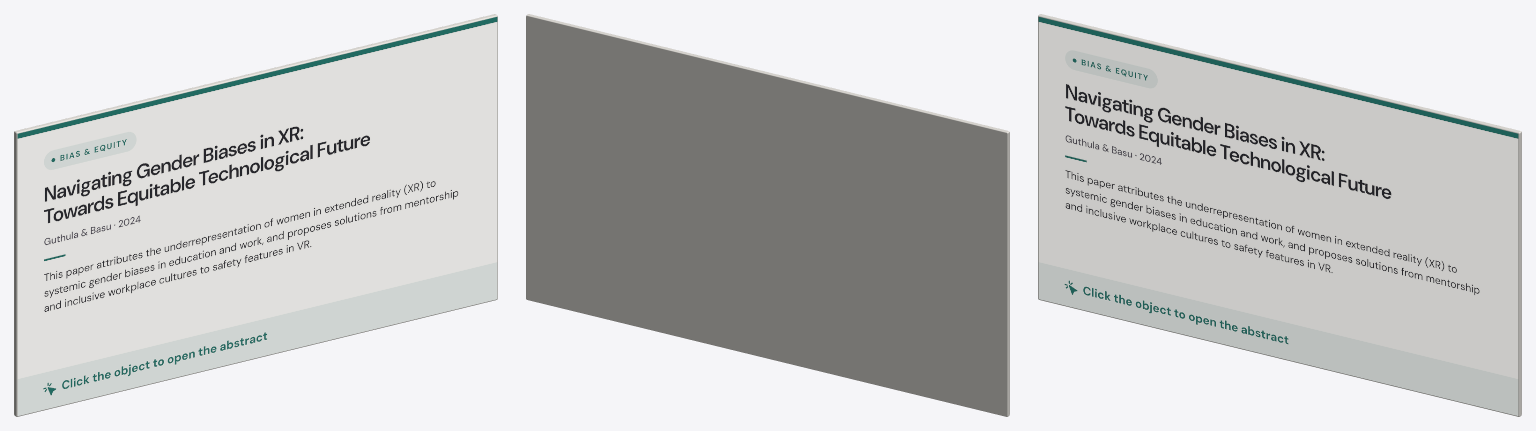
Rendered from plaque-guthula-2024.glb.
3 renders of one model, left to right at view 1: azimuth 30°, elevation 25°; view 2: azimuth 150°, elevation 25°; view 3: azimuth 330°, elevation 25°, orthographic.
Parts seen in each view (by area): view 1: plaque-guthula-2024; view 2: plaque-guthula-2024; view 3: plaque-guthula-2024.
Part boxes in pixels (x1=…): plaque-guthula-2024: x1=14, y1=14, x2=497, y2=416; plaque-guthula-2024: x1=526, y1=14, x2=1009, y2=416; plaque-guthula-2024: x1=1038, y1=14, x2=1521, y2=416.
Bounding box in the file's own units: 0.643 × 0.363 × 0.006.
2 materials, 1 textured.
